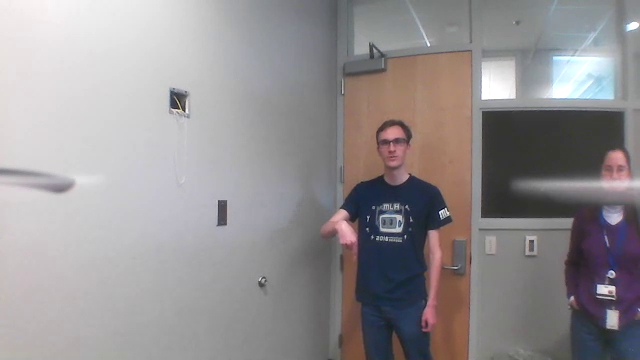down: (331, 212, 363, 263)
